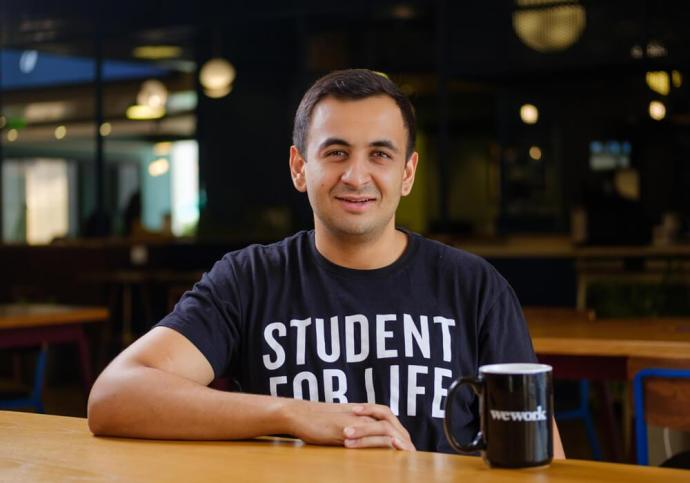wework: (488, 403, 551, 423)
